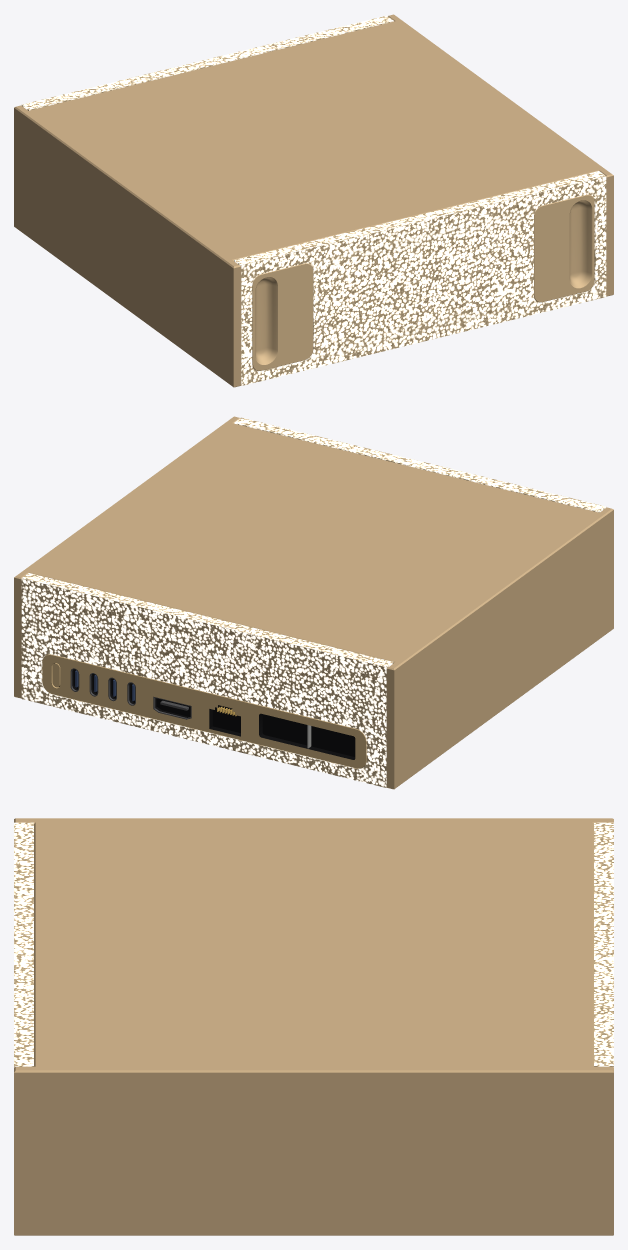
File: spark.glb
3 renders of one model, top to bottom at view 1: azimuth 30°, elevation 25°; view 2: azimuth 150°, elevation 25°; view 3: azimuth 270°, elevation 25°, orthographic. The views are drawn at different scales.
Parts seen in each view (by area): view 1: shell, foam_front, grip_left, grip_right, foam_rear; view 2: shell, foam_rear, io_plate, foam_front; view 3: shell, foam_front, foam_rear.
Part boxes in pixels (bbox=[...]): shell: bbox=[14, 14, 613, 387]; foam_front: bbox=[234, 171, 606, 385]; grip_left: bbox=[252, 263, 313, 370]; grip_right: bbox=[534, 194, 594, 302]; foam_rear: bbox=[21, 15, 393, 110]; shell: bbox=[14, 416, 613, 789]; foam_rear: bbox=[21, 573, 393, 787]; io_plate: bbox=[42, 654, 366, 768]; foam_front: bbox=[234, 417, 606, 512]; shell: bbox=[14, 818, 613, 1235]; foam_front: bbox=[14, 822, 33, 1067]; foam_rear: bbox=[594, 822, 613, 1067].
Bounding box in the file's own units: 0.15 × 0.0505 × 0.15.
Materials: 29 (6 with a texture image).
